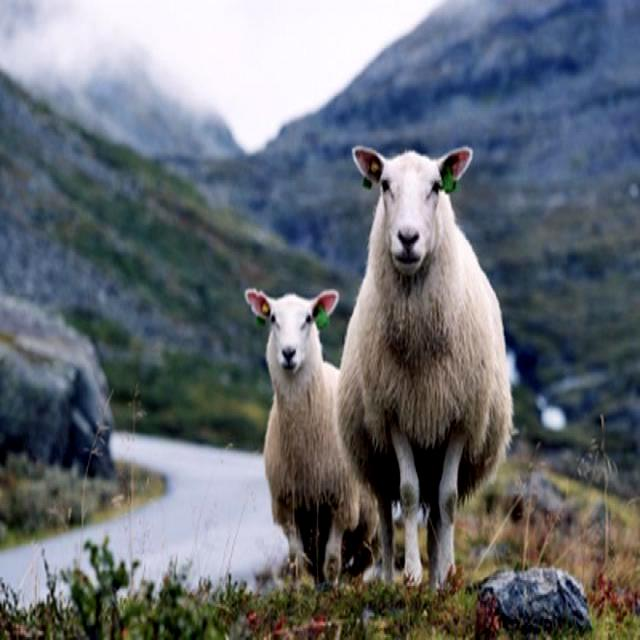sheep: (335, 147, 508, 583), (245, 292, 381, 590)
